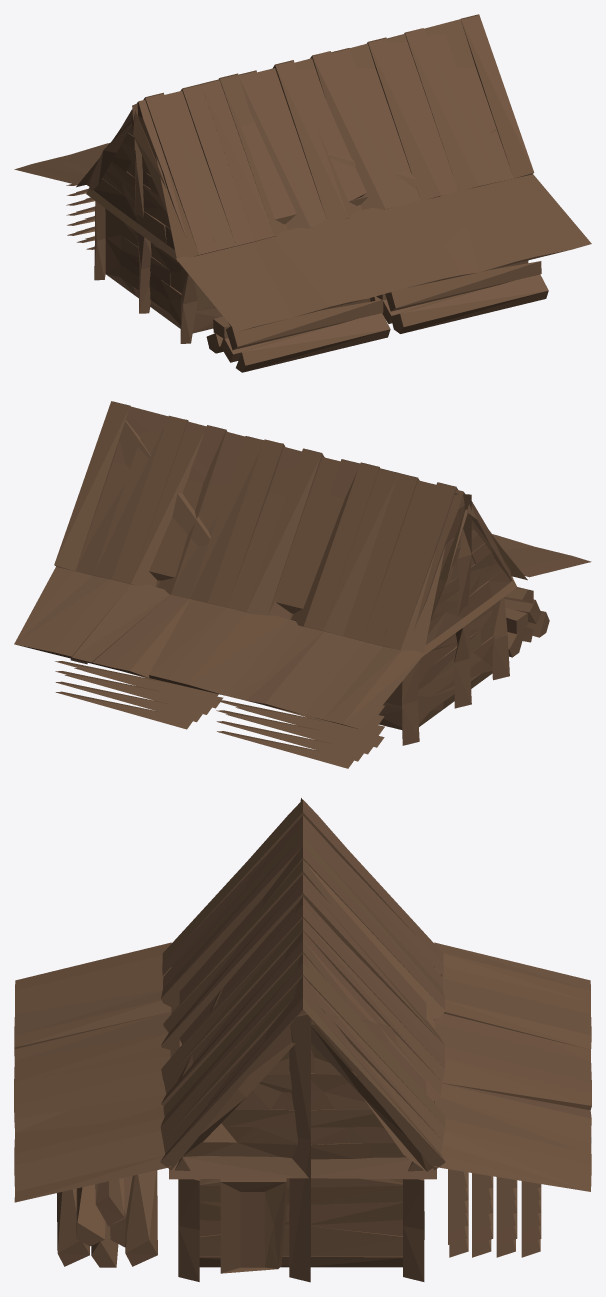
The model's file is sawmill.zfix-v14.lod1.glb.
The picture shows the model from 3 angles, top to bottom: view 1: azimuth 30°, elevation 25°; view 2: azimuth 150°, elevation 25°; view 3: azimuth 270°, elevation 25°; orthographic projection. The views are drawn at different scales.
Parts seen in each view (by area): view 1: Sawmill_Default_0; view 2: Sawmill_Default_0; view 3: Sawmill_Default_0.
Boxes of the visible parts, box(x1,y1,x2,y2) form: Sawmill_Default_0: box(14, 14, 591, 372); Sawmill_Default_0: box(14, 401, 591, 768); Sawmill_Default_0: box(14, 798, 591, 1282).
Bounding box in the file's own units: 10.48 × 6.04 × 11.4.
